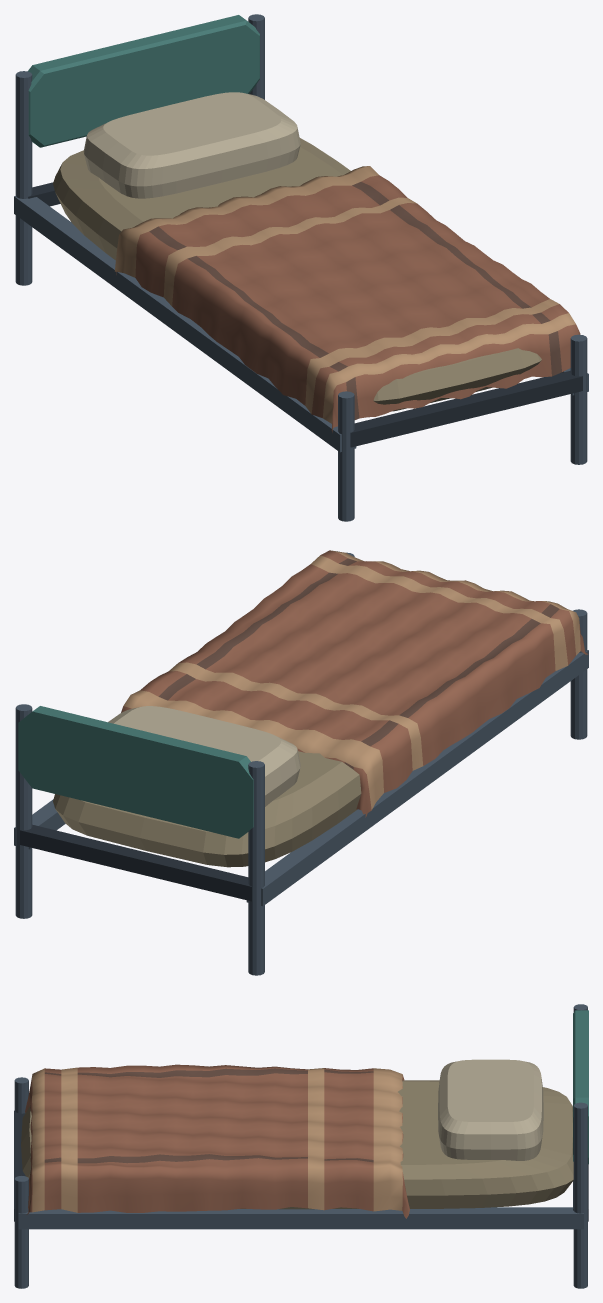
File: A-07_oval_bed.glb
3 renders of one model, top to bottom at view 1: azimuth 30°, elevation 25°; view 2: azimuth 150°, elevation 25°; view 3: azimuth 270°, elevation 25°, orthographic. The views are drawn at different scales.
Parts seen in each view (by area): view 1: A-07_oval_bed; view 2: A-07_oval_bed; view 3: A-07_oval_bed.
Boxes of the visible parts, bbox=[...] form: A-07_oval_bed: bbox=[14, 14, 588, 521]; A-07_oval_bed: bbox=[14, 550, 588, 975]; A-07_oval_bed: bbox=[14, 1004, 588, 1288].
Size of the model in its own units: 0.8283 by 0.6485 by 1.85.
